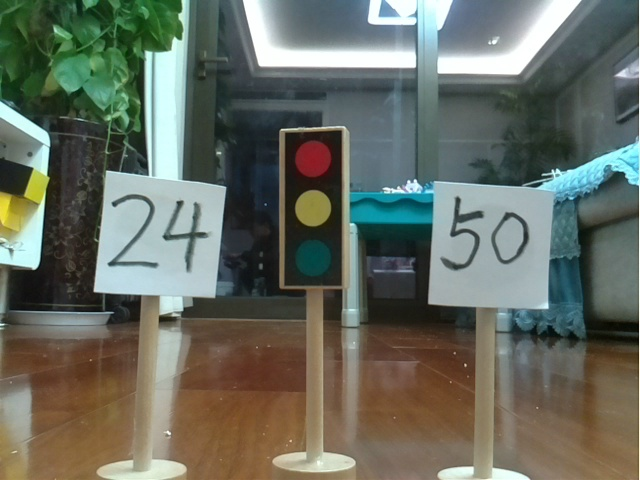Red Traffic Light: (270, 120, 365, 480)
Speed Limit 24: (88, 165, 230, 480)
Speed Limit 50: (417, 171, 562, 480)
